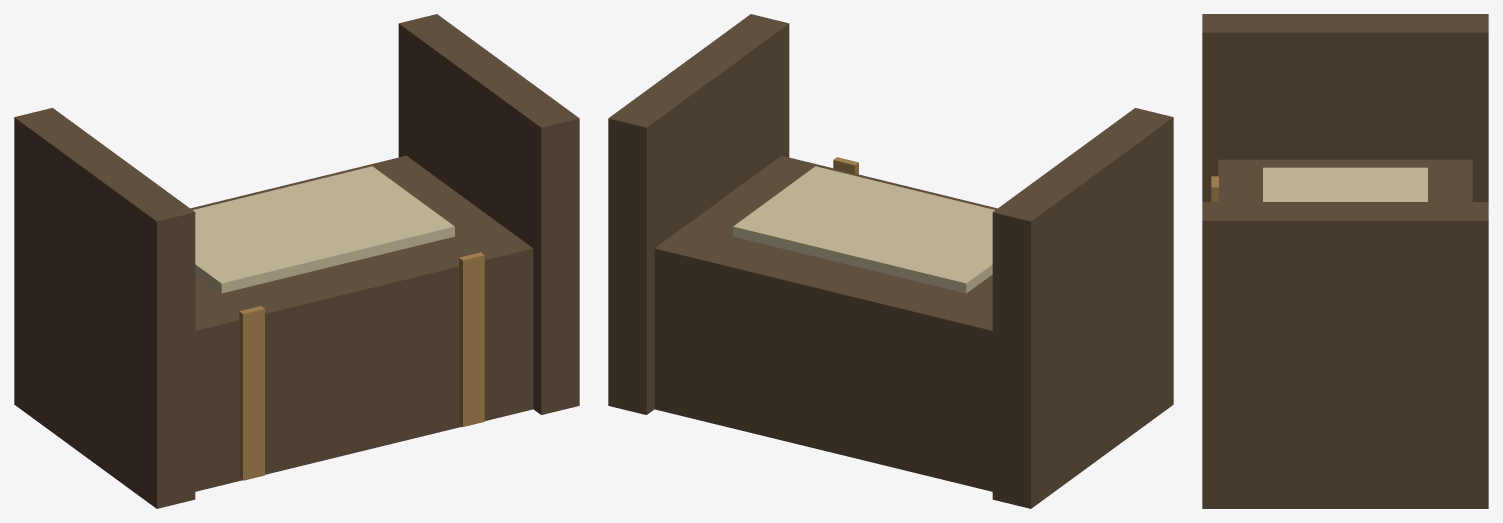
File: drift-letter.glb
3 views of the same model, side by side, from view 1: azimuth 30°, elevation 25°; view 2: azimuth 150°, elevation 25°; view 3: azimuth 270°, elevation 25° (orthographic).
Size of the model in its own units: 1.54 by 1 by 0.9.
